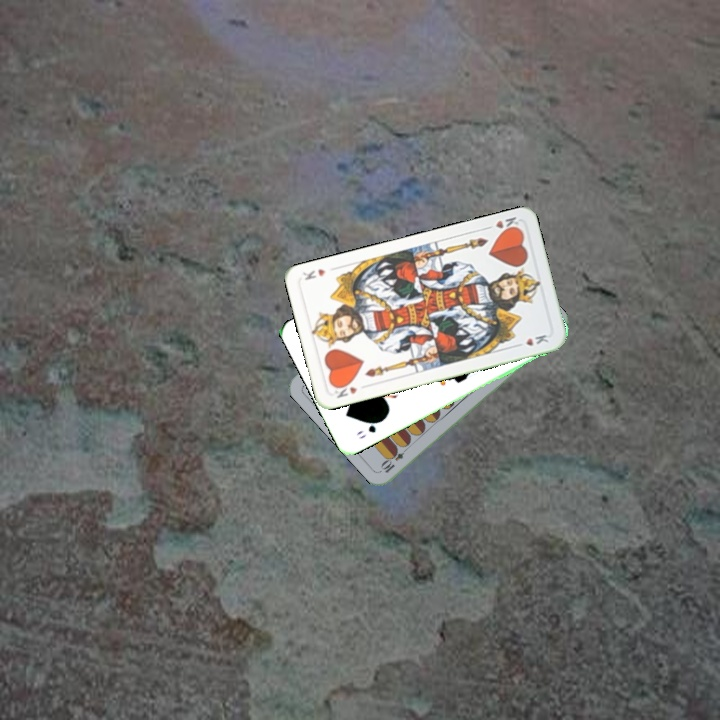E10: (377, 441, 411, 475)
GO: (352, 415, 386, 441)
HK: (481, 212, 523, 236), (330, 379, 360, 401)
